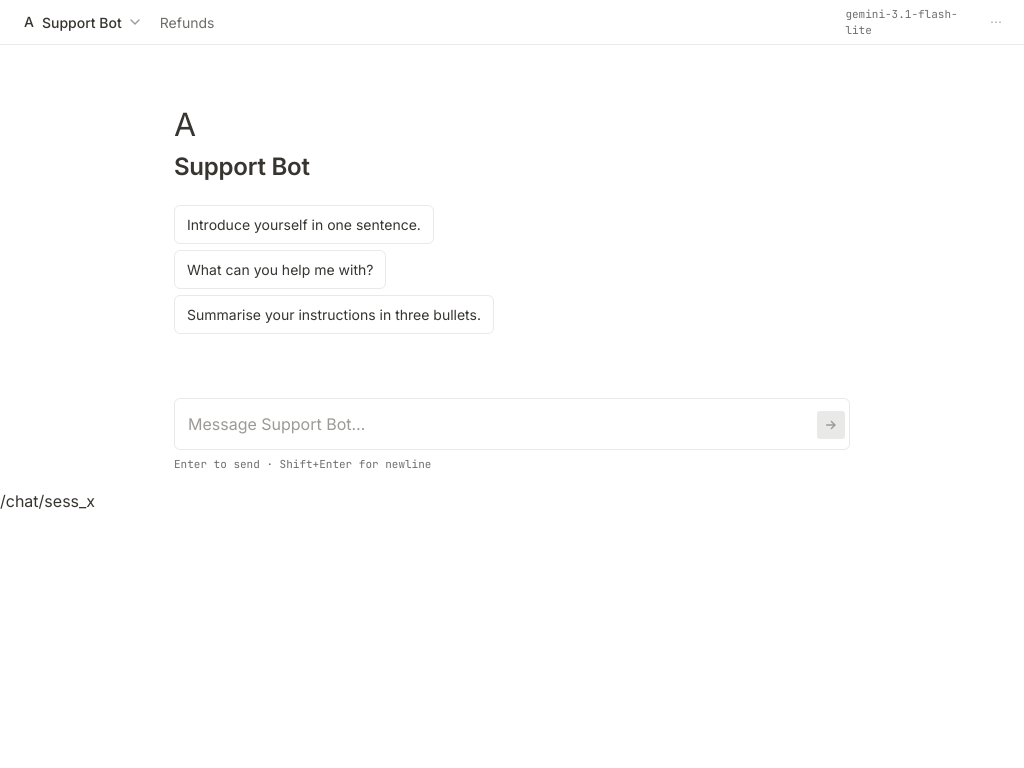
Test: Chat header menu › confirms a delete, removes the chat, and leaves for a new one
The image size is (1024, 768).
Click the button named "Chat options" at (996, 22), box [984,10,1008,34]
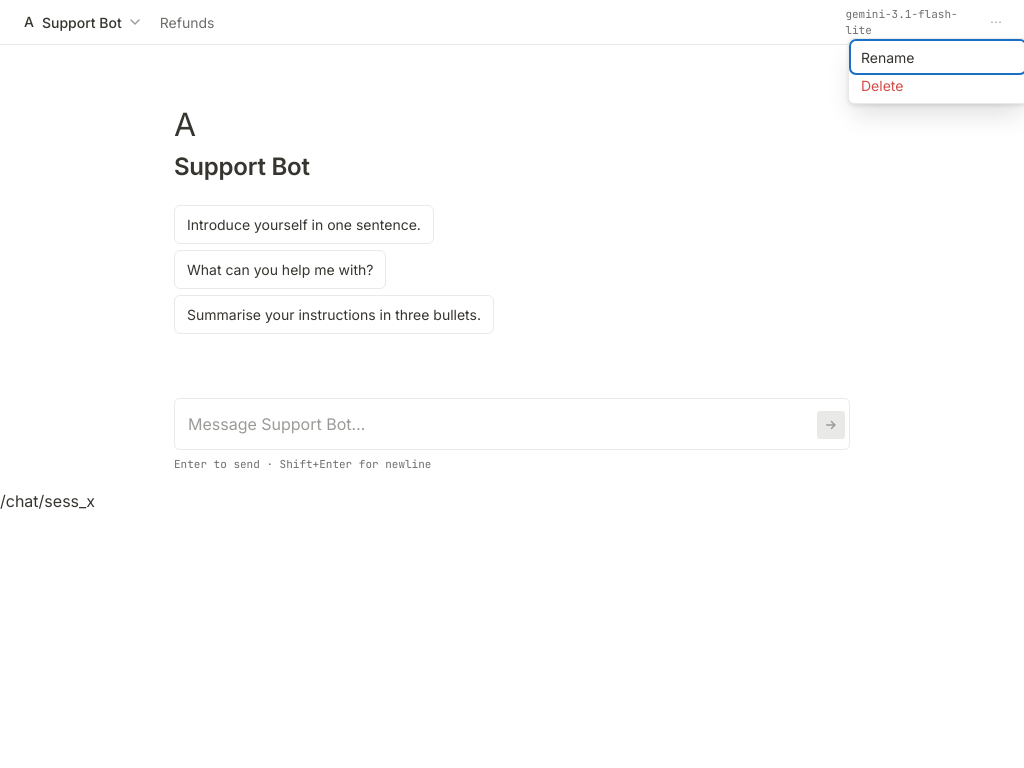
Click the button "Delete" at (938, 85), box [853,71,1023,99]
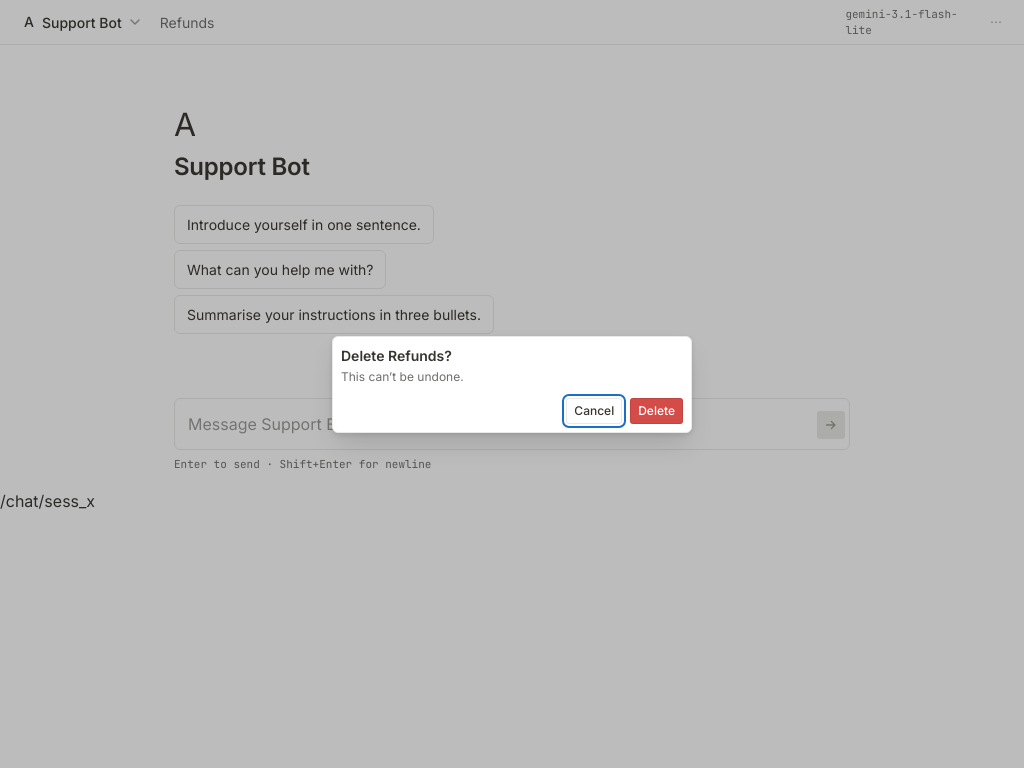
Check: the text "Delete Refunds?" is shown, box [341,346,452,364]
Click the button "Delete" at (657, 410), box [630,398,683,424]
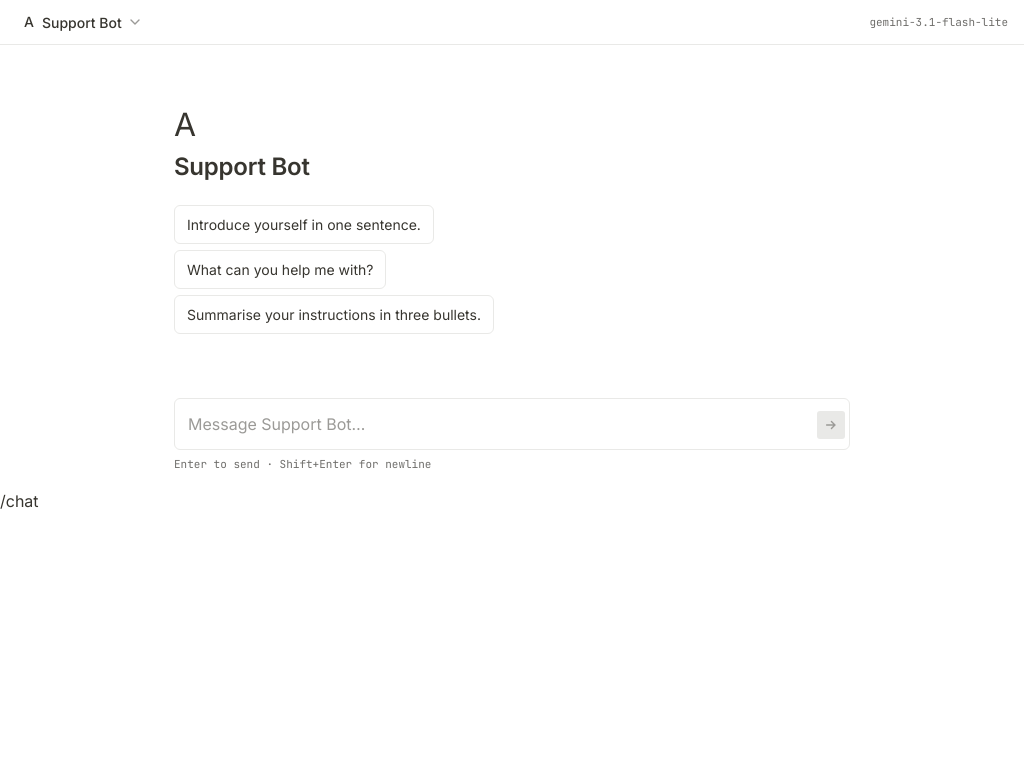
Check: the text with test id "location" reads "/chat", box [0,490,39,510]
